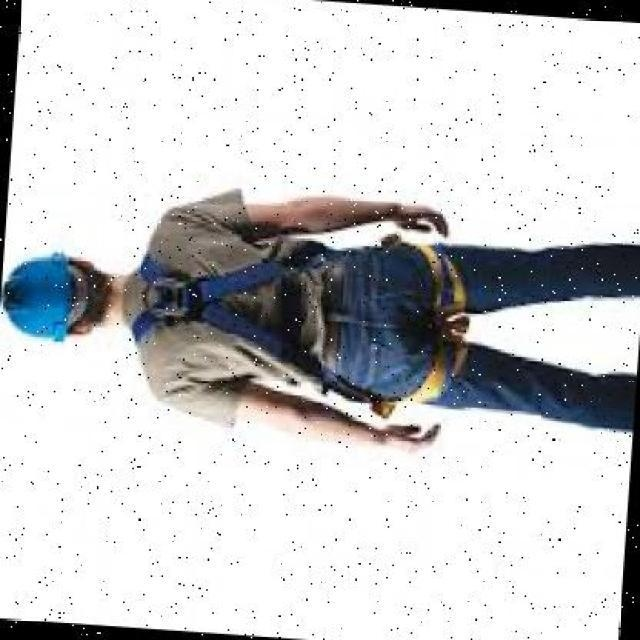Arnes_seguridad: (123, 213, 477, 424)
